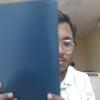notebook: (0, 0, 61, 99)
